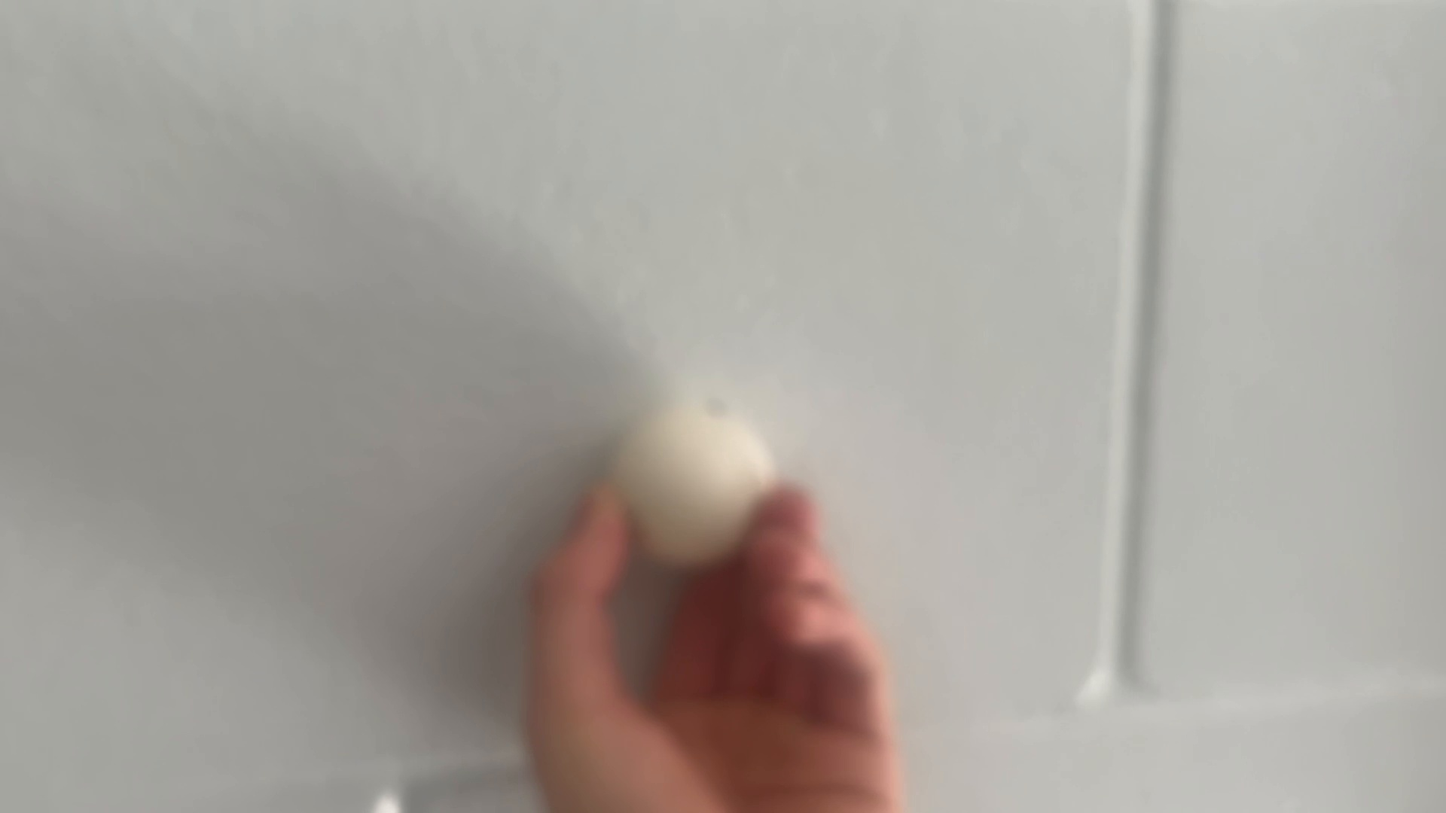Ball: (610, 389, 783, 575)
